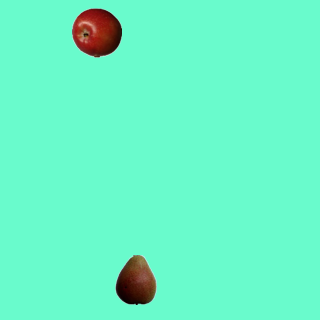Apple Braeburn: (71, 7, 121, 57)
Pear Forelle: (110, 254, 160, 304)
